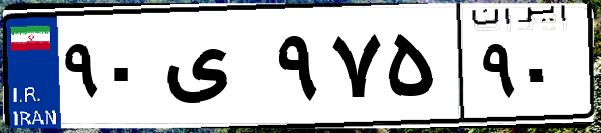0: (525, 38, 570, 115), (110, 28, 158, 98)
5: (385, 28, 445, 110)
7: (330, 28, 385, 110)
9: (270, 28, 330, 110), (57, 26, 110, 100), (475, 38, 525, 113)
ی: (158, 20, 270, 120)
